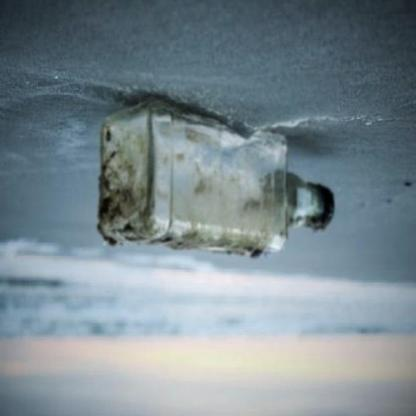plastic bottle: (99, 102, 335, 257)
